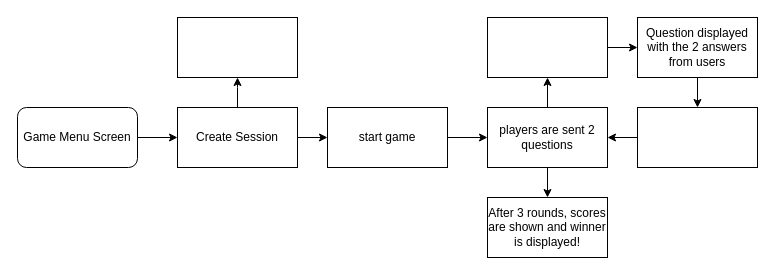
Some shapes in this 775 by 275 pixel diagram are drawn without their labels. Here are the shapes that lost their labels. From the top down, the centre of each, then its label:
At (237,47): "Players Enter username and Pin and become session players".
At (547,47): "players answer questions".
At (697,137): "players given points based on # of votes".
